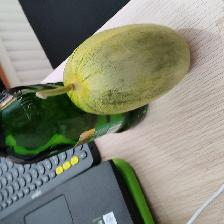gua: (51, 25, 196, 104)
